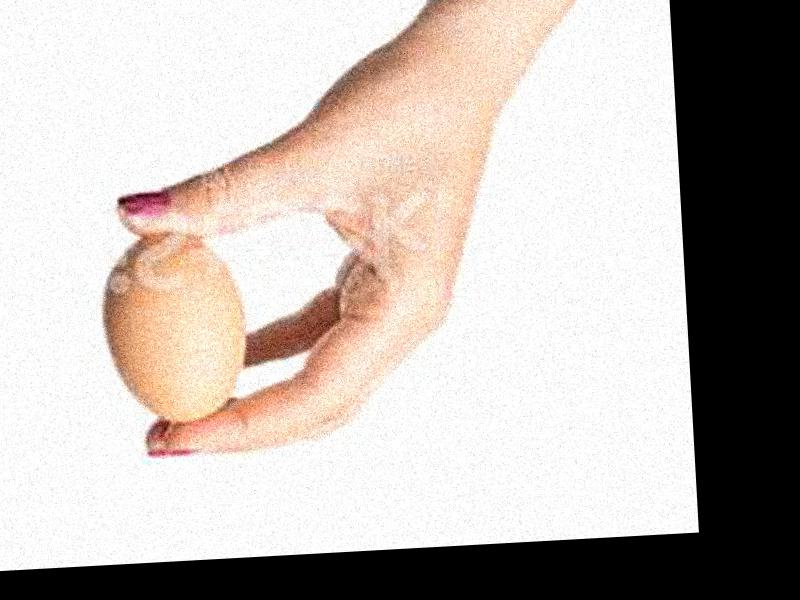Eggs: (104, 227, 247, 425)
